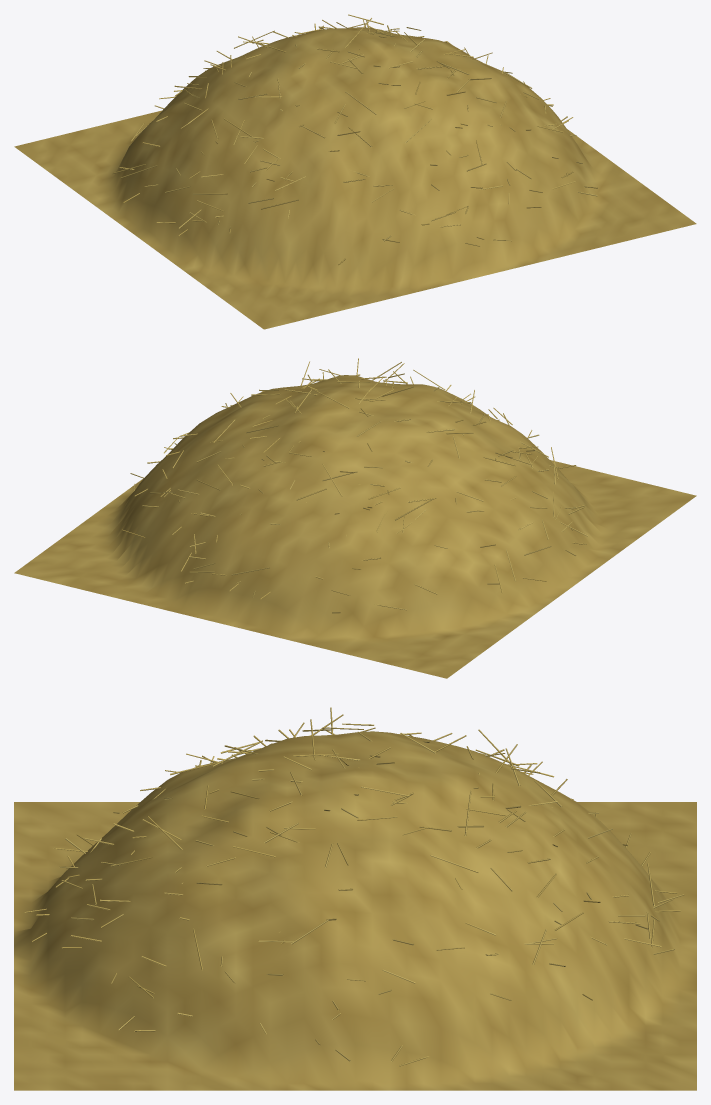
Rendered from HayPile.glb.
3 views of the same model, one above another, from view 1: azimuth 30°, elevation 25°; view 2: azimuth 150°, elevation 25°; view 3: azimuth 270°, elevation 25° (orthographic). The views are drawn at different scales.
Parts seen in each view (by area): view 1: Heap, Straws; view 2: Heap, Straws; view 3: Heap, Straws.
Boxes of the visible parts, <box> form: Heap: <box>14,27,696,329</box>; Straws: <box>112,14,597,265</box>; Heap: <box>14,375,696,678</box>; Straws: <box>122,358,588,613</box>; Heap: <box>14,731,696,1090</box>; Straws: <box>24,707,683,1066</box>.
Bounding box in the file's own units: 3.15 × 1.04 × 3.15.
